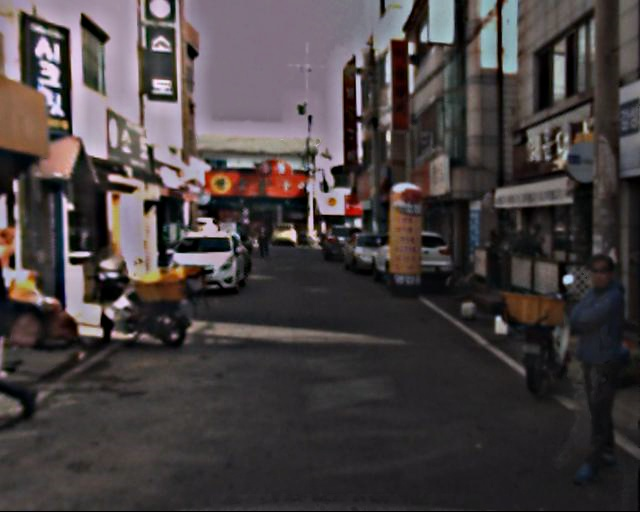person: (537, 256, 640, 477), (254, 219, 273, 260)
